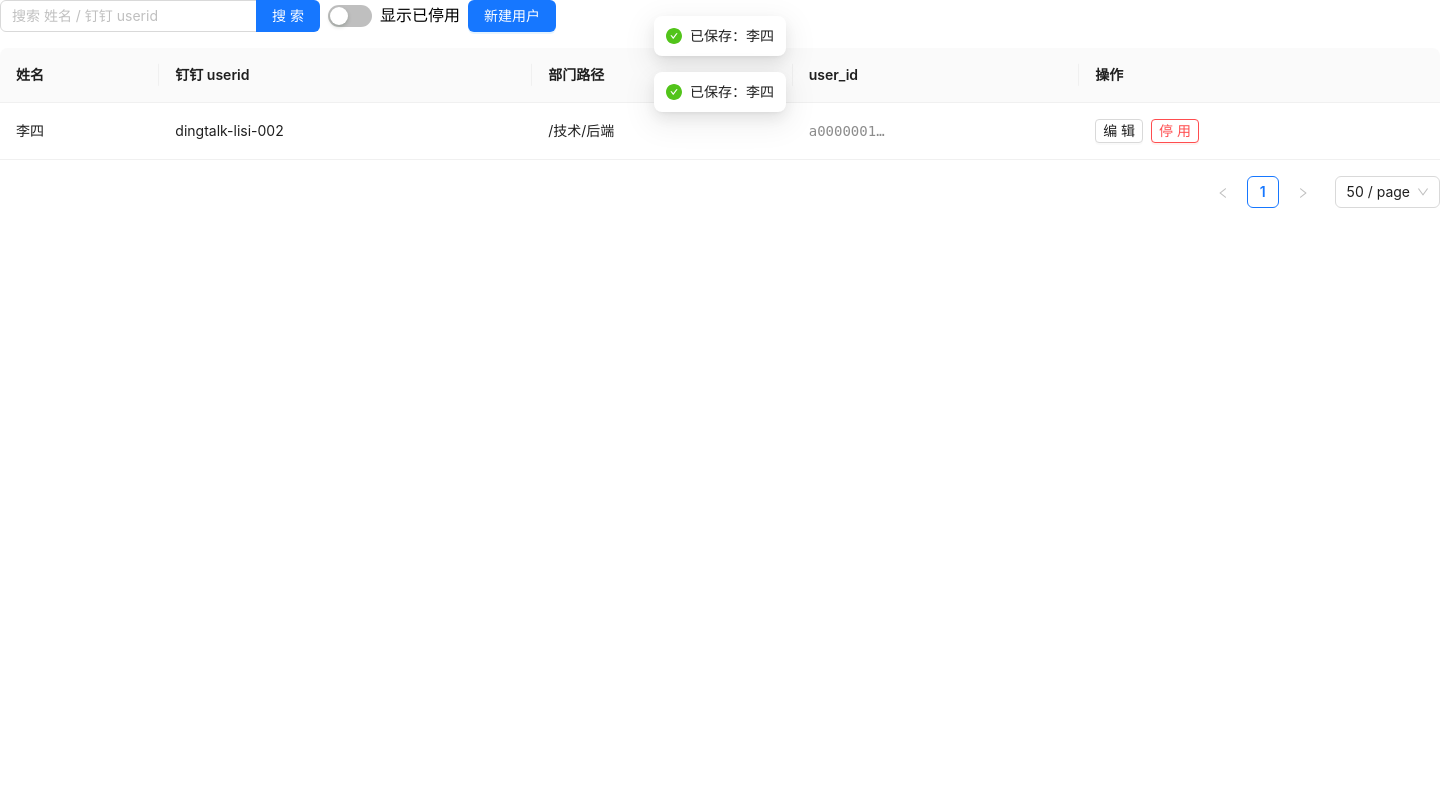
it: AdminUsersPage — edit + deactivate › edit modal loads the user's bound tags into the inline Transfer (PE-09)
This screenshot has width=1440, height=810.
Expected: the text "李四" is shown, left=16, top=122, right=44, bottom=139
Click the button "编 辑": [1119, 131] box left=1095, top=119, right=1143, bottom=143
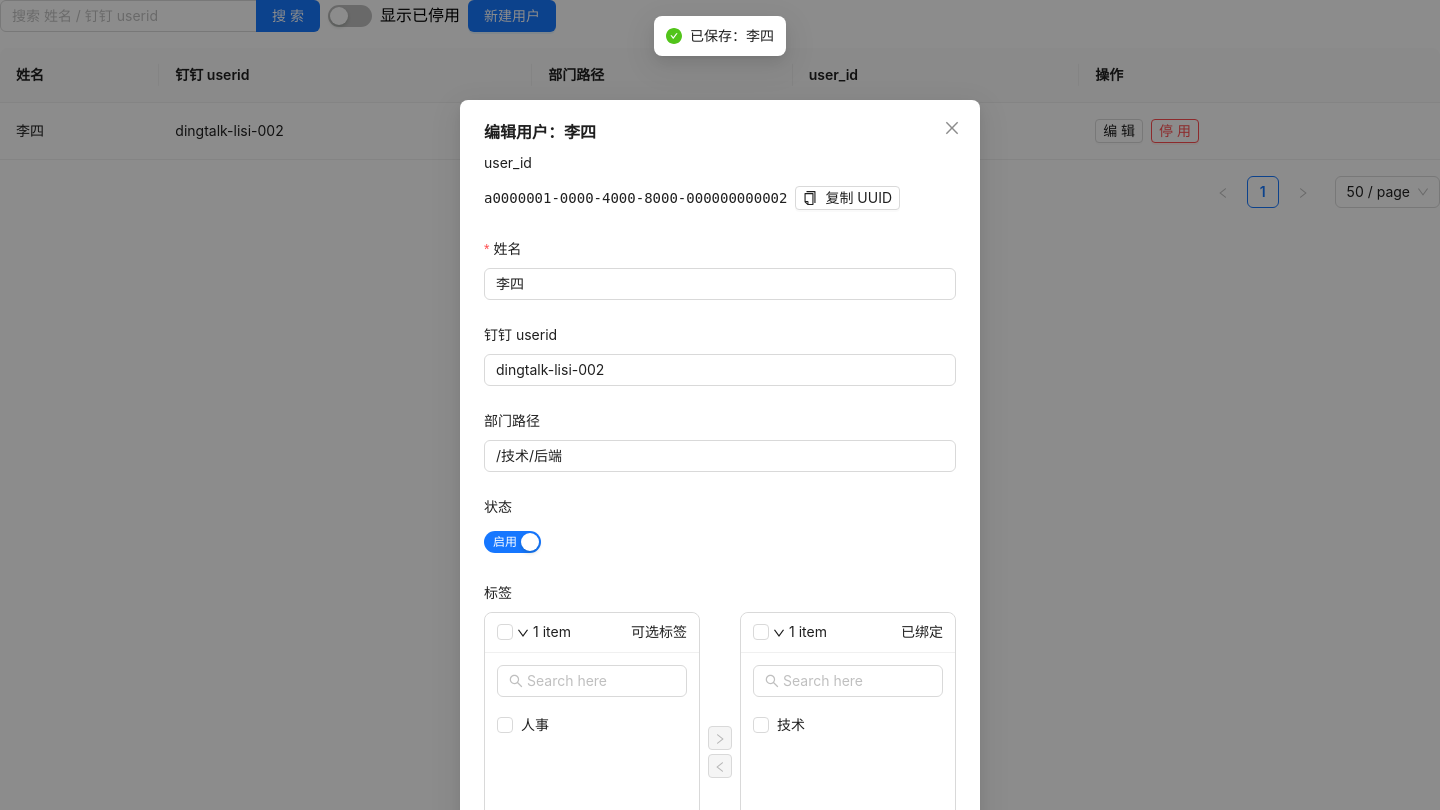
Now the text "技术" is shown, box left=777, top=716, right=805, bottom=733
Now the text "人事" is shown, box left=521, top=716, right=549, bottom=733
